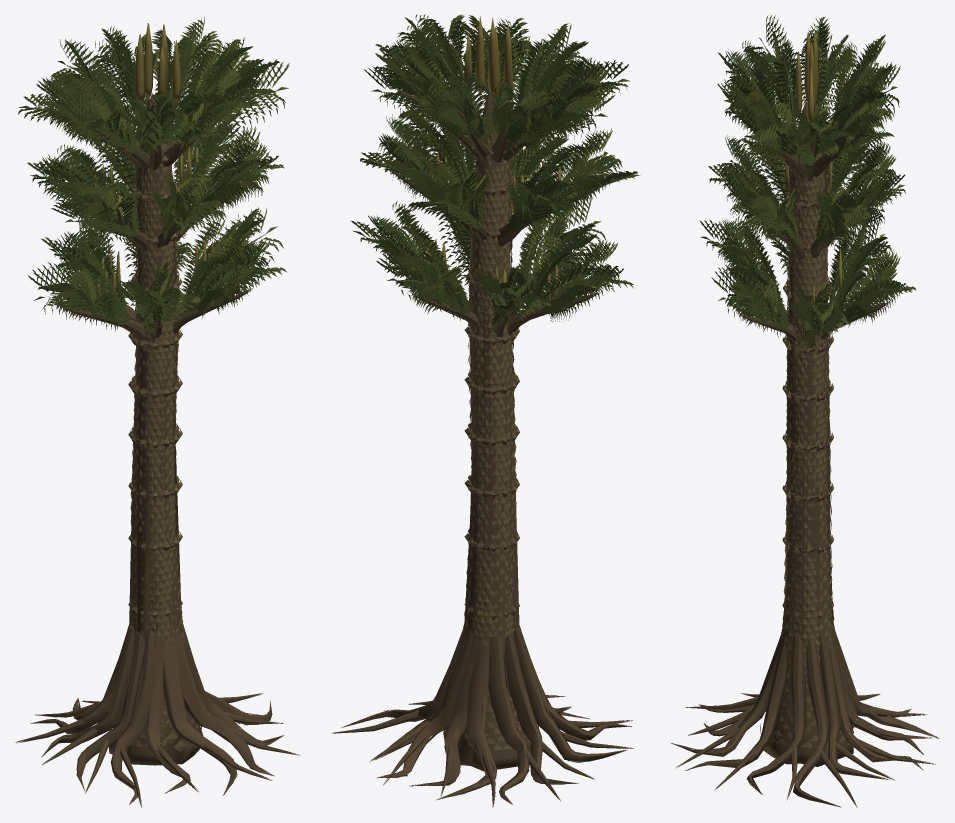
File: tree1_lods.glb
The picture shows the model from 3 angles, left to right: view 1: azimuth 30°, elevation 25°; view 2: azimuth 150°, elevation 25°; view 3: azimuth 270°, elevation 25°; orthographic projection. The views are drawn at different scales.
Parts seen in each view (by area): view 1: tree1_0_lod0; view 2: tree1_0_lod0; view 3: tree1_0_lod0.
Boxes of the visible parts, box(x1,y1,x2,y2) form: tree1_0_lod0: box(15, 16, 300, 807); tree1_0_lod0: box(331, 14, 640, 807); tree1_0_lod0: box(671, 15, 939, 807).
Size of what is drawn, in the model's own units: 0.3829 by 1 by 0.3452.
